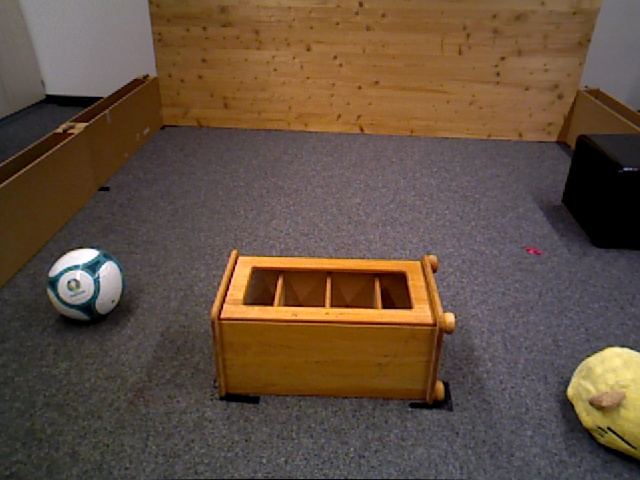grasp: (565, 345, 640, 459)
kick: (47, 248, 124, 324)
push: (576, 134, 640, 252)
